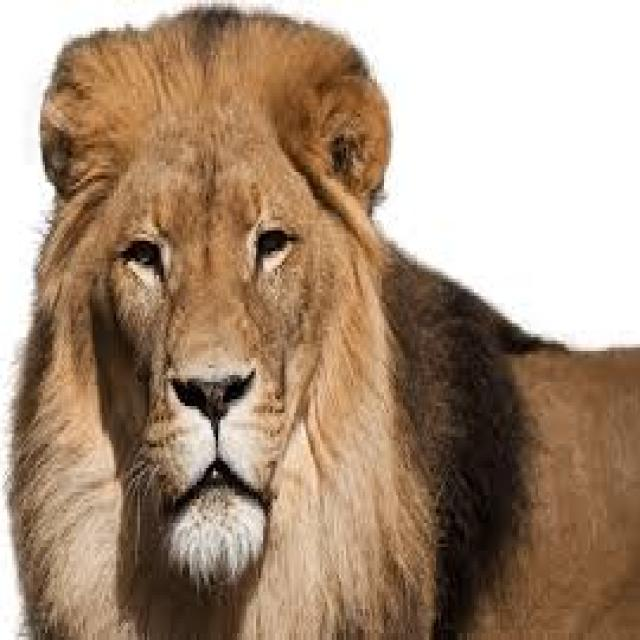Lion: (13, 15, 638, 637)
